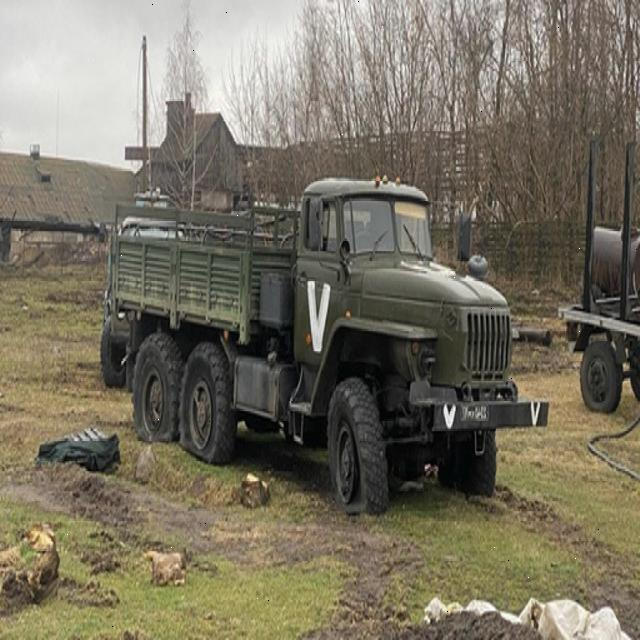TRUCK: (100, 167, 551, 536)
